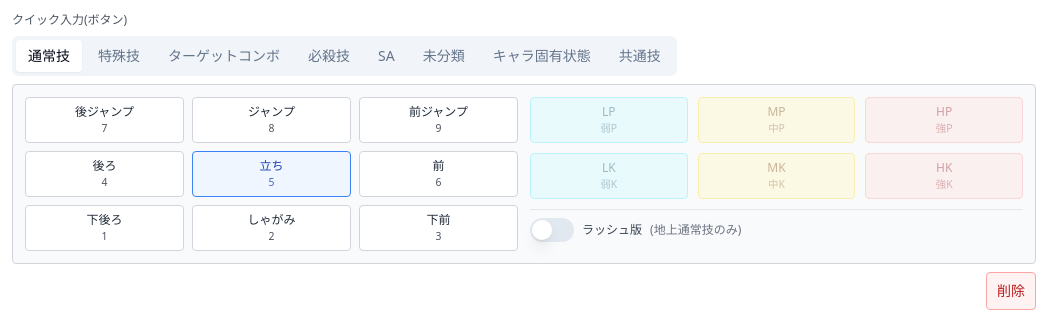
Test: ★★変種行(M30-02 / P4M-018 案 B) › ★★ファミリー行から【ホールド】が消える(逐語の「強度の外に 1 つ出ている」の是正)
The width and height of the screenshot is (1048, 327).
Click the tab with test id "recipe-tab-special".
click(329, 56)  # box x1=296 y1=40 x2=362 y2=72
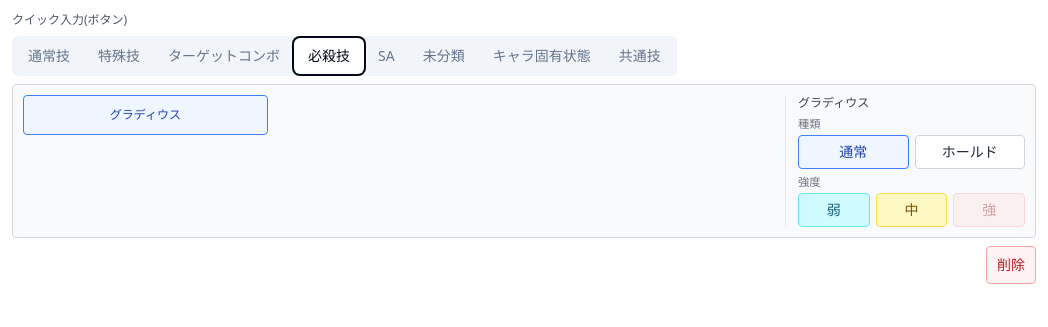
Result: the button with test id "recipe-special-family-gladius" reads "グラディウス" at x1=23 y1=95 x2=268 y2=135
